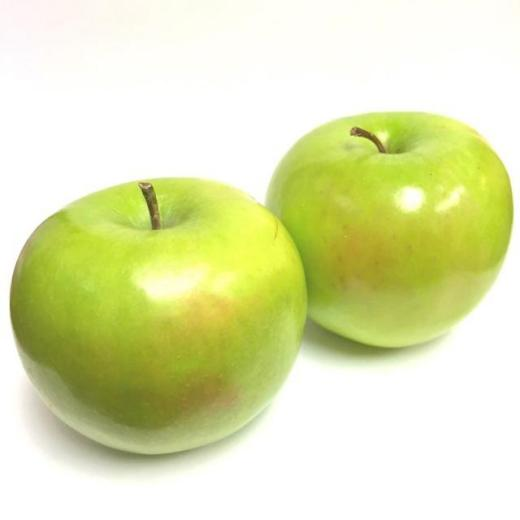Apple: (10, 176, 308, 454), (264, 113, 514, 349)
